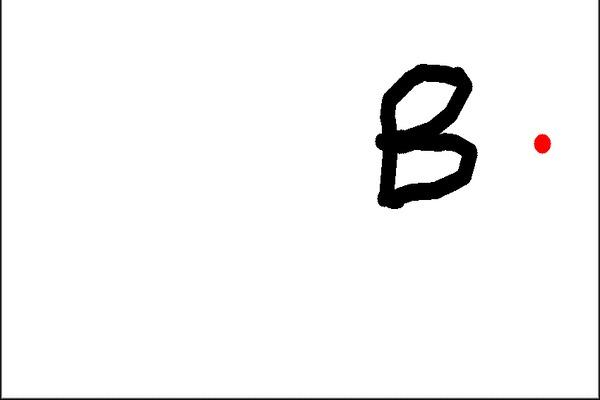B: (366, 54, 485, 215)
